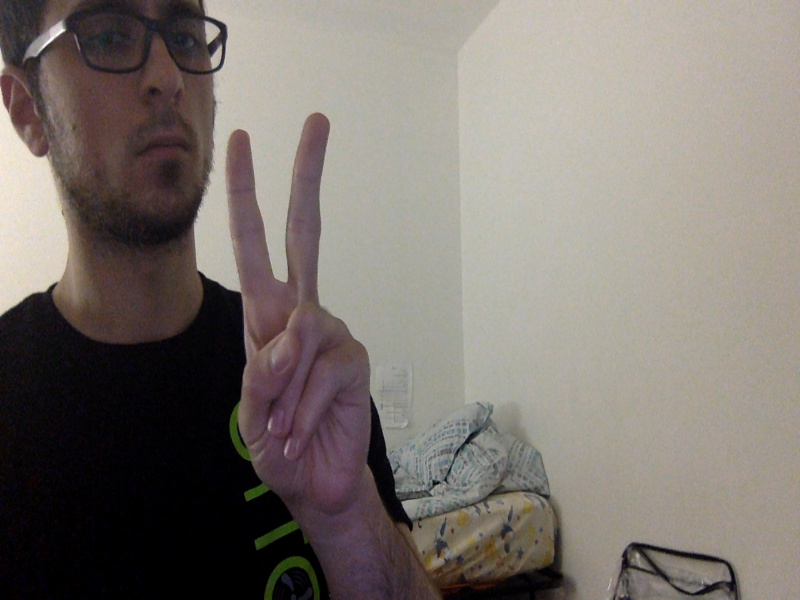2-hand: (221, 111, 373, 508)
